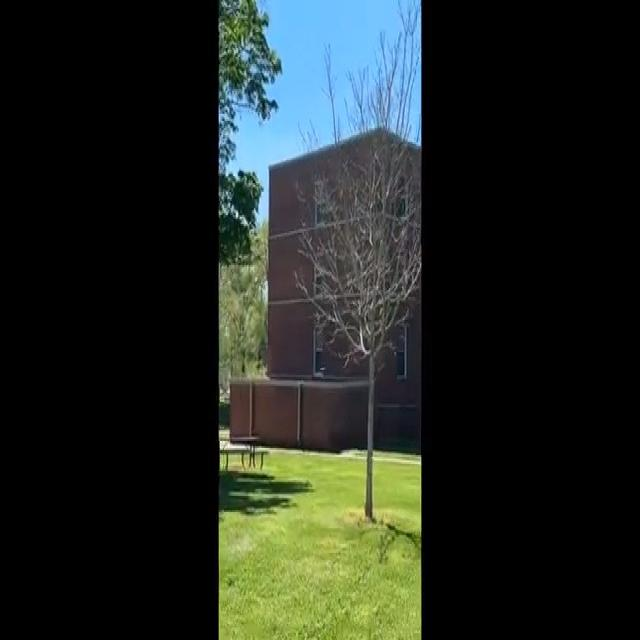drone: (317, 362, 331, 377)
